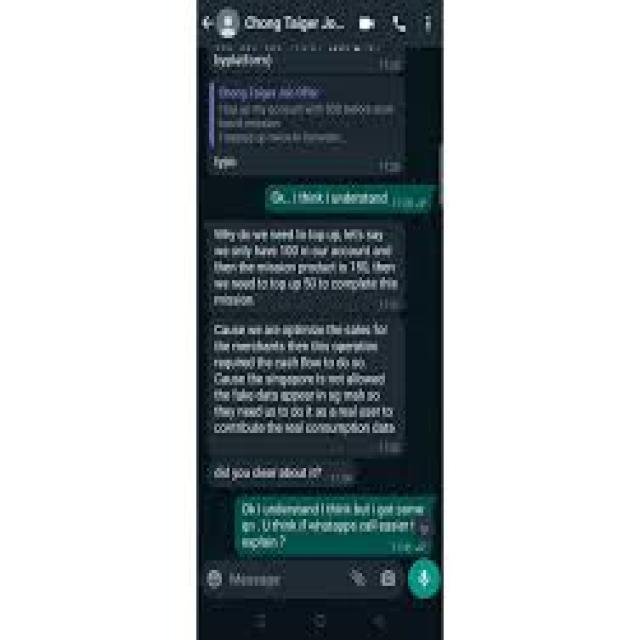scam: (206, 223, 408, 456), (208, 49, 407, 172), (210, 454, 335, 486)
